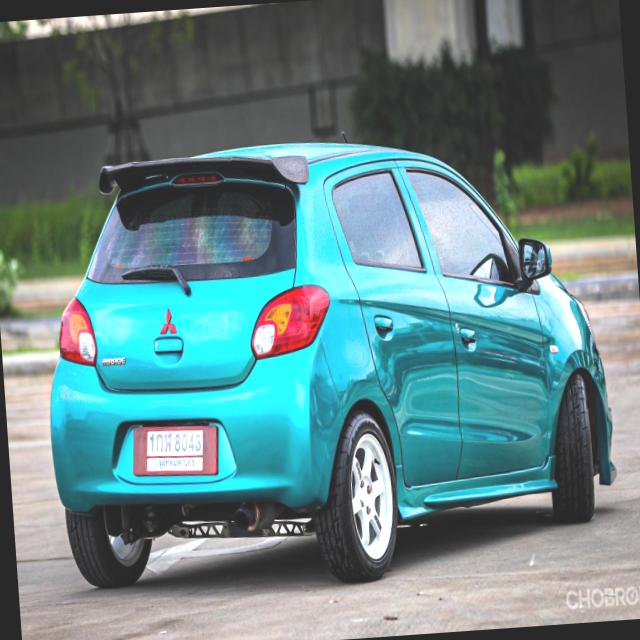license_plate: (130, 419, 220, 482)
